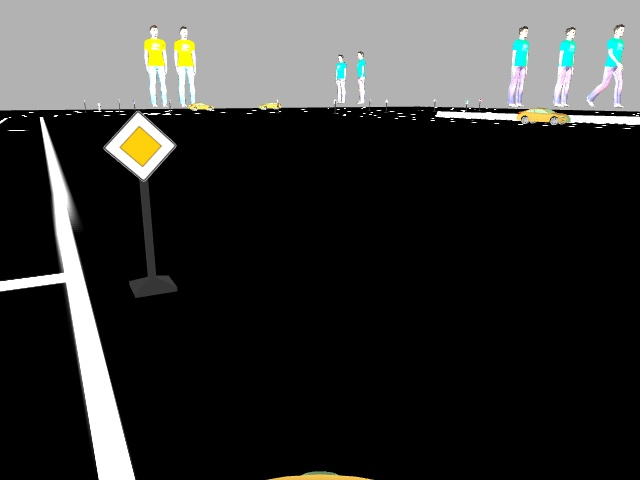Priority: (100, 111, 171, 184)
